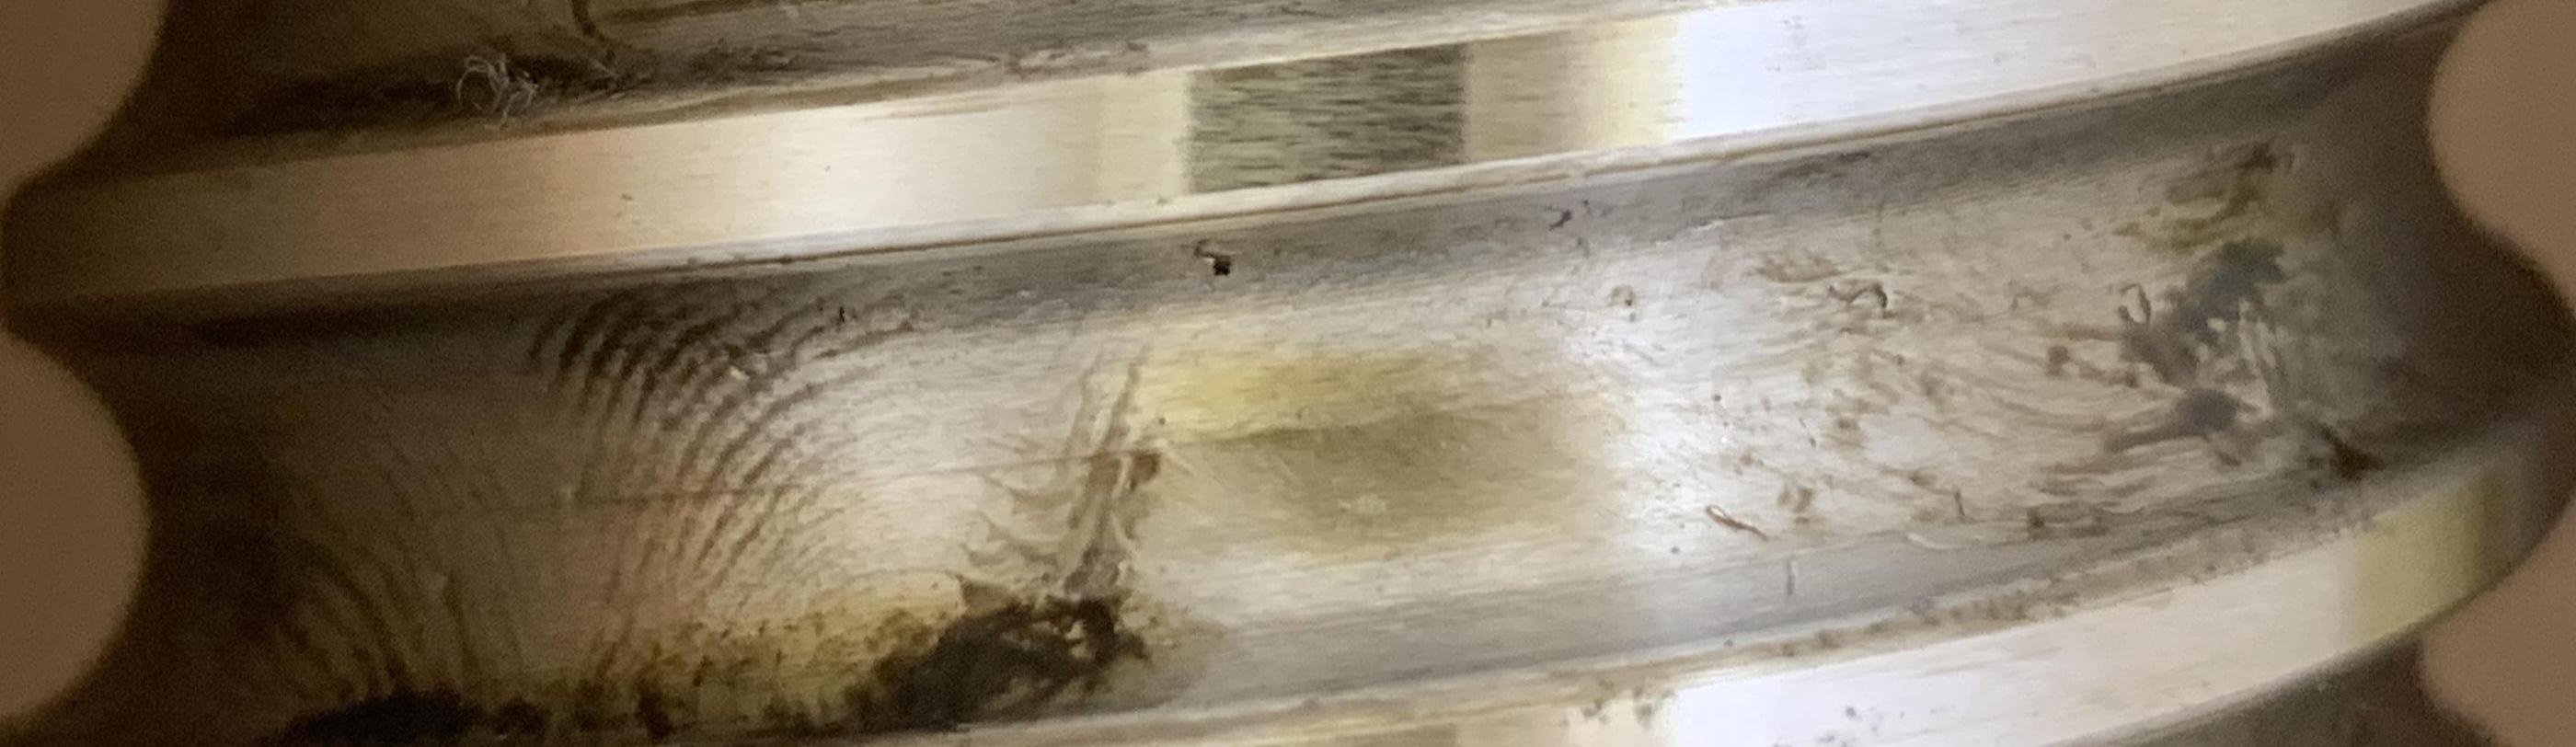pitting: (1193, 238, 1230, 276)
